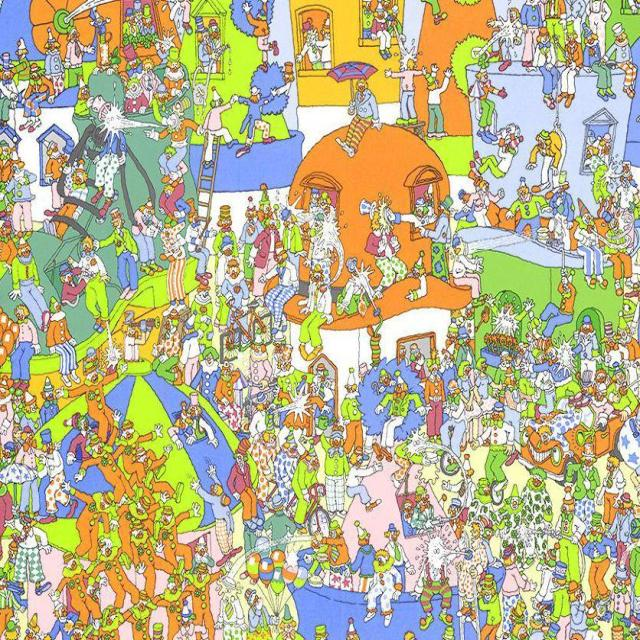waldo: (538, 602, 552, 622)
